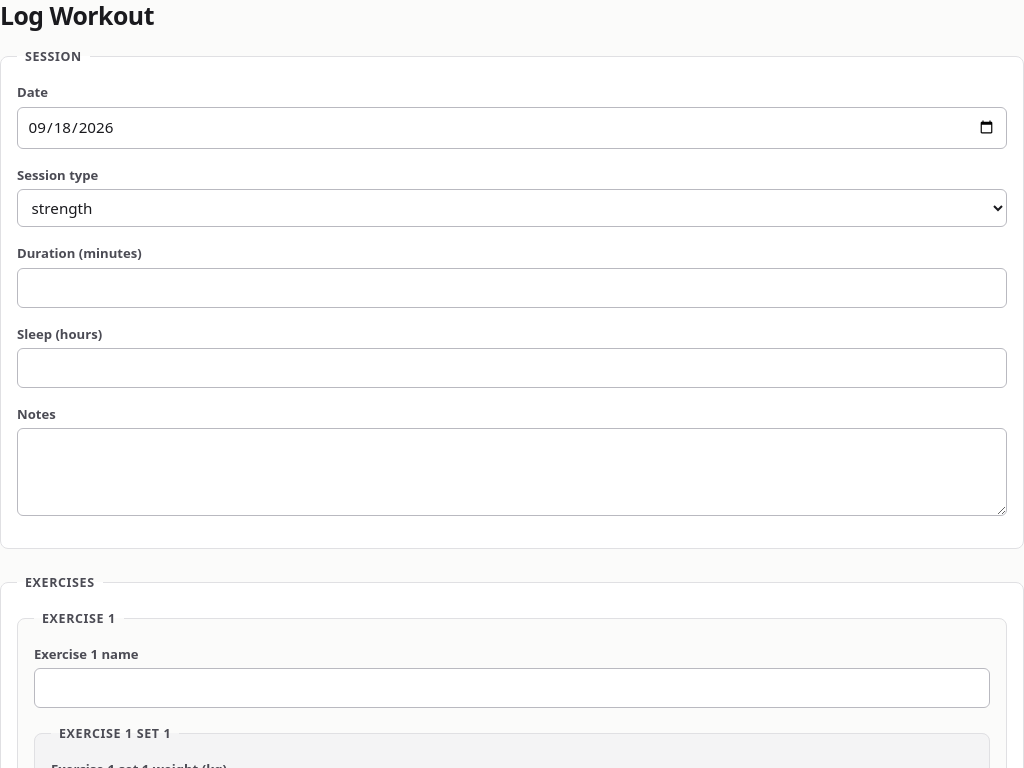
Test: WorkoutEditorScreen › rejects a negative weight
Type "Squat" into the field labelled "Exercise 1 name".
click(512, 688); type("Squat")  # box [34,668,990,708]
(page scrolled)
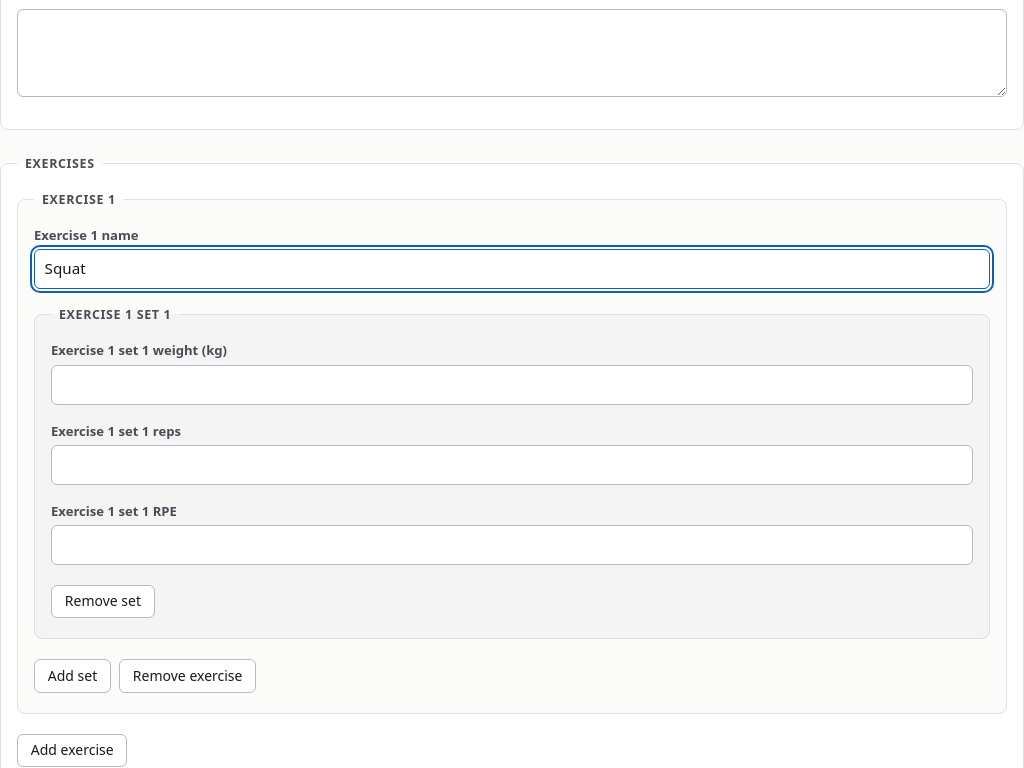
Type "100" into the number field labelled "Exercise 1 set 1 weight (kg)".
click(512, 385); type("100")  # box [51,365,973,405]
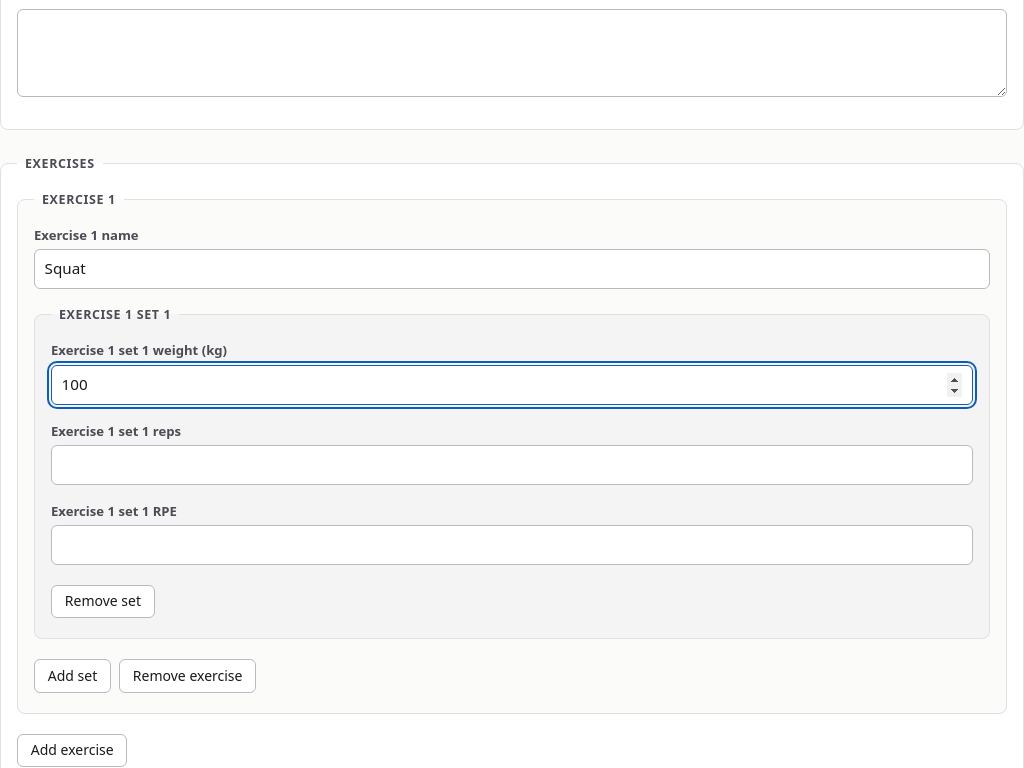
Type "5" into the number field labelled "Exercise 1 set 1 reps".
click(512, 465); type("5")  # box [51,445,973,485]
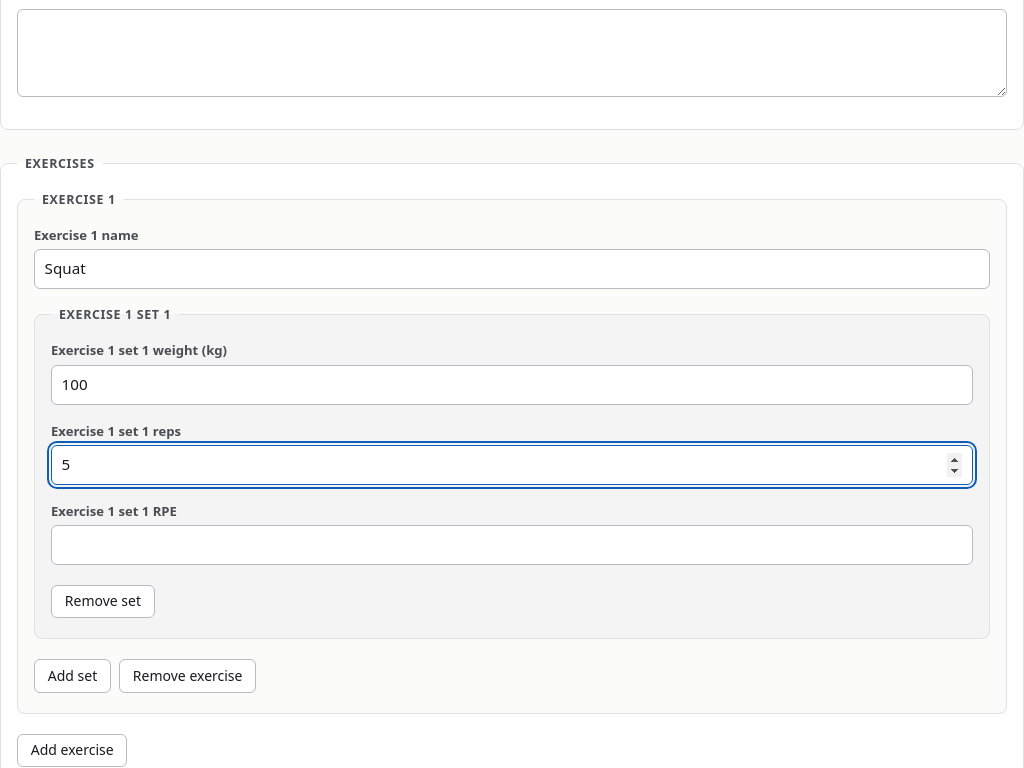
Type "8" into the number field labelled "Exercise 1 set 1 RPE".
click(512, 545); type("8")  # box [51,525,973,565]
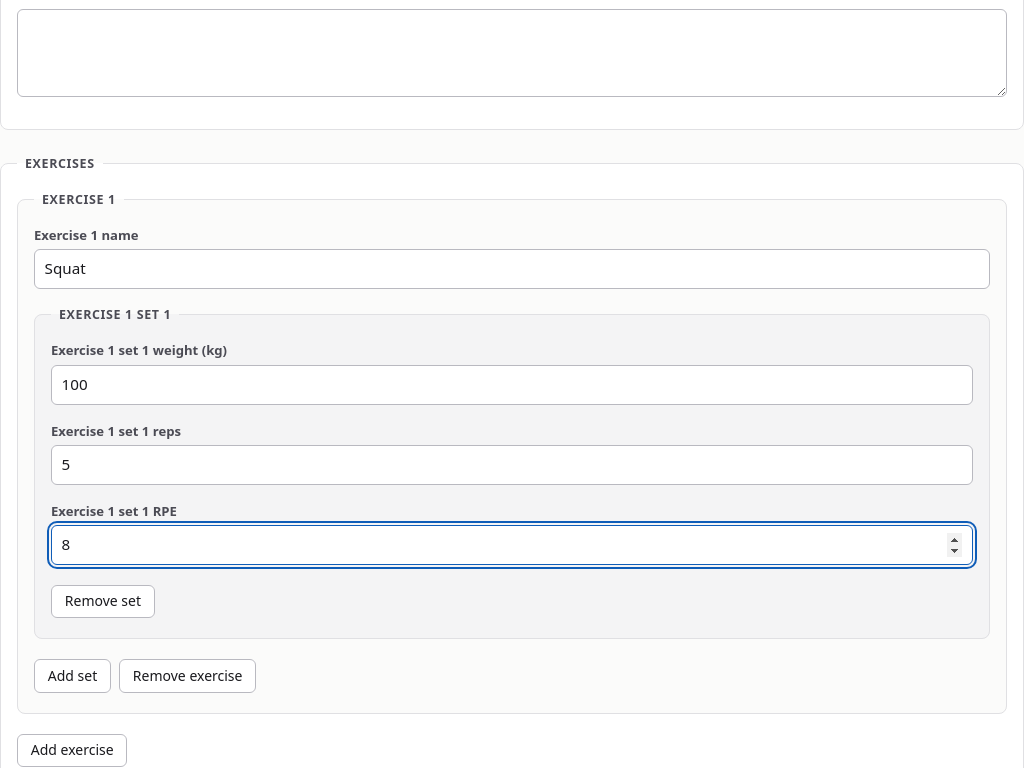
Replace the text in the number field labelled "Exercise 1 set 1 weight (kg)" with "-10" at [512, 385], box [51,365,973,405]
(page scrolled)
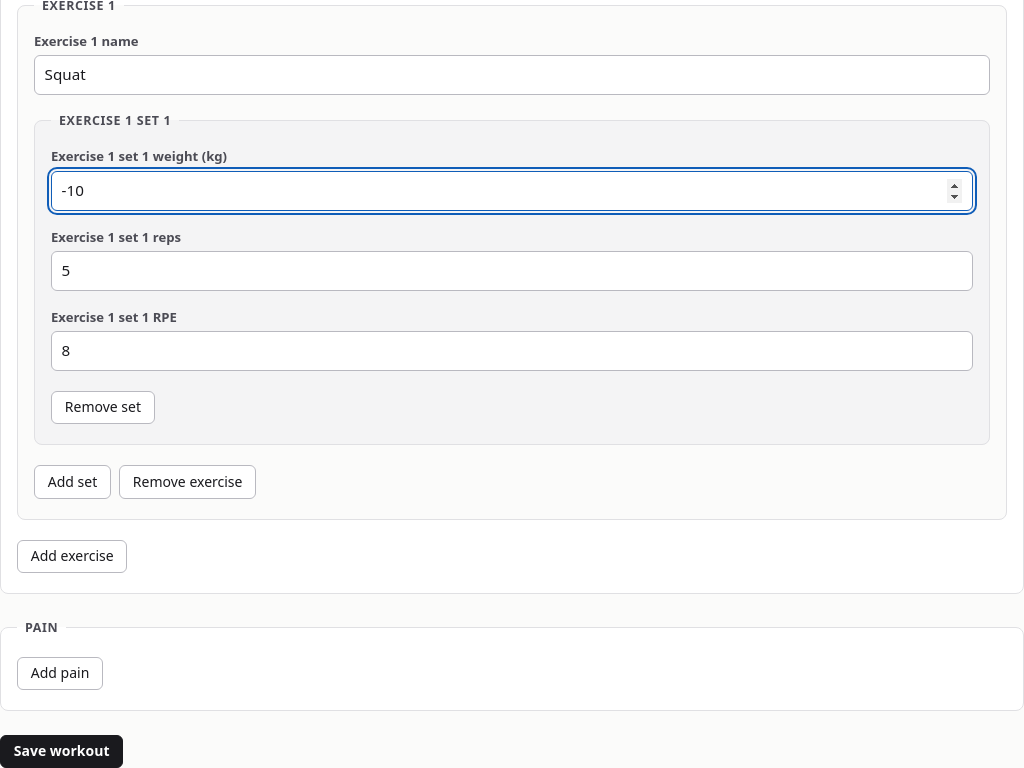
Click the button "Save workout".
click(62, 752)  # box [0,735,123,767]
(page scrolled)
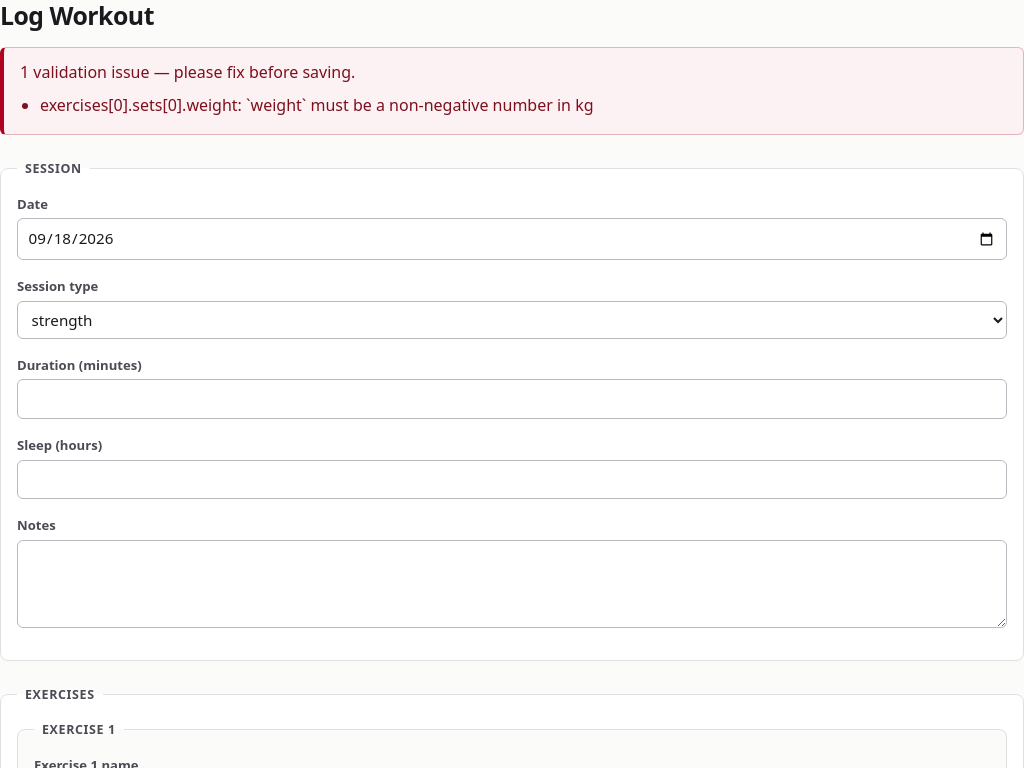
expect the message shows "weight": met, box [246,94,594,116]
